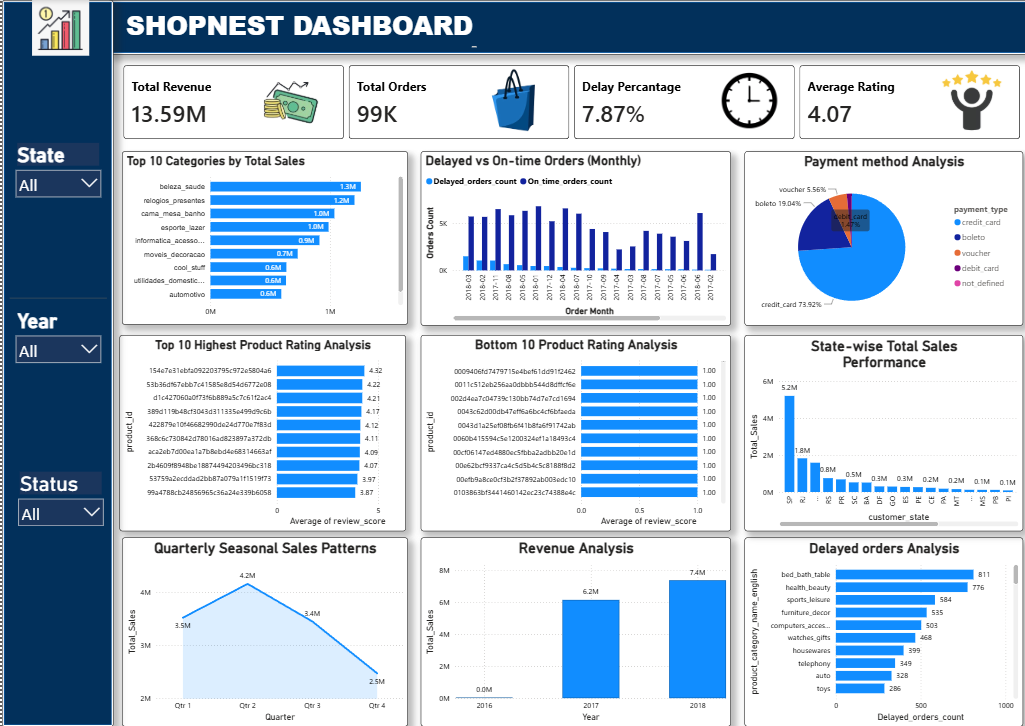

The dashboard page shown, as its layout file describes it:
{"tool":"powerbi","page":{"name":"DASHBOARD","canvas":[1700,1215],"ordinal":0},"visuals":[{"type":"shape","box":[176.3,0,1523.4,90],"z":0,"group":"g2"},{"type":"barChart","title":"Top 10 Categories by Total Sales","fields":{"Category":["Nexusgoods_products_dataset.product_category_name"],"Y":["Nexusgoods_products_dataset.Total_Sales"]},"box":[198,250,472,286],"z":0},{"type":"clusteredBarChart","title":"Delayed orders Analysis ","fields":{"Y":["Nexusgoods_orders_dataset (1).Delayed_orders_count"],"Category":["product_category_name_translation.product_category_name_english"]},"box":[1226,888,460,312],"z":1000},{"type":"clusteredColumnChart","title":"Delayed vs On-time Orders (Monthly)","fields":{"Y":["Nexusgoods_orders_dataset (1).Delayed_orders_count","Nexusgoods_orders_dataset (1).On_time_orders_count"],"Category":["Nexusgoods_orders_dataset (1).Order_Month"]},"box":[692,250,512,288],"z":2000},{"type":"pieChart","title":" Payment method Analysis ","fields":{"Category":["Nexusgoods_order_payments_dataset.payment_type"],"Y":["CountNonNull(Nexusgoods_order_payments_dataset.order_id)"]},"box":[1226,250,460,288],"z":3000},{"type":"clusteredBarChart","title":"Top 10 Highest Product Rating Analysis ","fields":{"Category":["Nexusgoods_products_dataset.product_id"],"Y":["Avg(Nexusgoods_order_reviews_dataset.review_score)"]},"box":[194,553,472.5,324],"z":4000},{"type":"clusteredBarChart","title":"Bottom 10 Product Rating Analysis ","fields":{"Category":["Nexusgoods_products_dataset.product_id"],"Y":["Avg(Nexusgoods_order_reviews_dataset.review_score)"]},"box":[691.3,553,511.8,324],"z":5000},{"type":"columnChart","title":"State-wise Total Sales Performance ","fields":{"Category":["Nexusgoods_customers_dataset.customer_state"],"Y":["Nexusgoods_products_dataset.Total_Sales"]},"box":[1225.7,553,460.2,324],"z":6000},{"type":"lineChart","title":"Quarterly Seasonal  Sales  Patterns ","fields":{"Y":["Nexusgoods_products_dataset.Total_Sales"],"Category":["Nexusgoods_orders_dataset (1).order_purchase_timestamp.Variation.Date Hierarchy.Quarter"]},"box":[198,888,472,312],"z":7000},{"type":"clusteredColumnChart","title":"  Revenue Analysis ","fields":{"Y":["Nexusgoods_products_dataset.Total_Sales"],"Category":["Nexusgoods_orders_dataset (1).order_purchase_timestamp.Variation.Date Hierarchy.Year"]},"box":[692,888,512,312],"z":8000},{"type":"cardVisual","fields":{"Data":["Nexusgoods_order_items_dataset.Total Revenue","Nexusgoods_orders_dataset (1).Total Orders","Nexusgoods_orders_dataset (1).Delay Percantage","Nexusgoods_order_reviews_dataset.Average Rating"]},"box":[183.4,91.7,1516.7,156.3],"z":9000},{"type":"group","id":"g1","title":"Group 1","box":[0,0,1699.7,1200],"z":10000},{"type":"textbox","title":"SHOPNEST DASHBOARD","box":[193.6,10.2,594.4,73],"z":11000},{"type":"image","box":[0,0,193.6,91.7],"z":12000},{"type":"image","box":[416.1,90,118.9,149.5],"z":13000},{"type":"shape","box":[0,0,184,1200],"z":14000,"group":"g2"},{"type":"image","box":[796.5,107,105.3,125.7],"z":14000},{"type":"group","id":"g2","title":"Group 2","box":[0,0,1699.7,1200],"z":14502,"group":"g1"},{"type":"image","box":[1187.2,98.5,93.4,132.5],"z":15000},{"type":"image","box":[1543.8,90,117.2,149.5],"z":16000},{"type":"slicer","fields":{"Values":["Nexusgoods_orders_dataset (1).Order_Month"]},"box":[12.4,487,161,132.1],"z":17000},{"type":"slicer","fields":{"Values":["Nexusgoods_customers_dataset.customer_state"]},"box":[12.4,231.1,161,132.1],"z":18000},{"type":"slicer","fields":{"Values":["Nexusgoods_orders_dataset (1).order_status"]},"box":[16.5,773.8,161,132.1],"z":19000}]}

Visuals, with their boxes in screenshot pixels (x1, y1, x2, y2), scaled from the page's 1700x1215 canvas onto the 1025x726 screenshot:
shape: <box>106,0,1024,54</box>
"Top 10 Categories by Total Sales" barChart: <box>119,149,404,320</box>
"Delayed orders Analysis " clusteredBarChart: <box>739,531,1017,717</box>
"Delayed vs On-time Orders (Monthly)" clusteredColumnChart: <box>417,149,726,321</box>
" Payment method Analysis " pieChart: <box>739,149,1017,321</box>
"Top 10 Highest Product Rating Analysis " clusteredBarChart: <box>117,330,402,524</box>
"Bottom 10 Product Rating Analysis " clusteredBarChart: <box>417,330,725,524</box>
"State-wise Total Sales Performance " columnChart: <box>739,330,1016,524</box>
"Quarterly Seasonal  Sales  Patterns " lineChart: <box>119,531,404,717</box>
"  Revenue Analysis " clusteredColumnChart: <box>417,531,726,717</box>
cardVisual - Nexusgoods_order_items_dataset.Total Revenue x Nexusgoods_orders_dataset (1).Total Orders: <box>111,55,1024,148</box>
"Group 1" group: <box>0,0,1024,717</box>
"SHOPNEST DASHBOARD" textbox: <box>117,6,475,50</box>
image: <box>0,0,117,55</box>
image: <box>251,54,323,143</box>
shape: <box>0,0,111,717</box>
image: <box>480,64,544,139</box>
"Group 2" group: <box>0,0,1024,717</box>
image: <box>716,59,772,138</box>
image: <box>931,54,1001,143</box>
slicer - Nexusgoods_orders_dataset (1).Order_Month: <box>7,291,105,370</box>
slicer - Nexusgoods_customers_dataset.customer_state: <box>7,138,105,217</box>
slicer - Nexusgoods_orders_dataset (1).order_status: <box>10,462,107,541</box>
